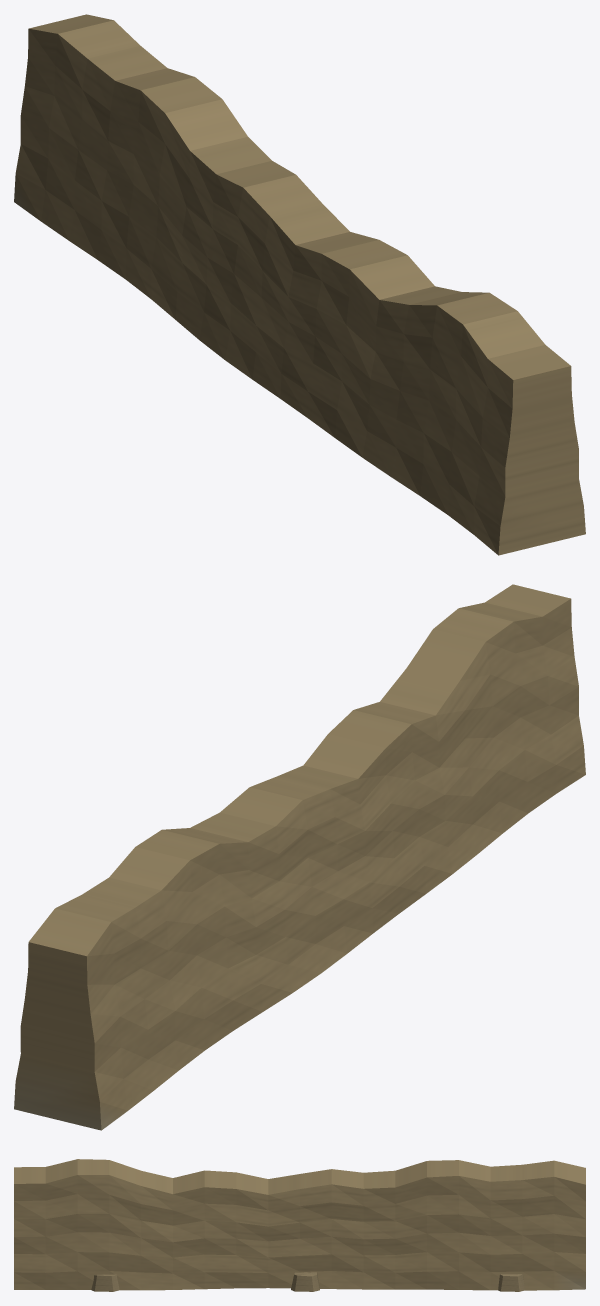
File: wall-earth-lod0.glb
3 views of the same model, one above another, from view 1: azimuth 30°, elevation 25°; view 2: azimuth 150°, elevation 25°; view 3: azimuth 270°, elevation 25° (orthographic). The views are drawn at different scales.
Bounding box in the file's own units: 0.1185 × 0.2138 × 1.
1 material, 1 textured.
